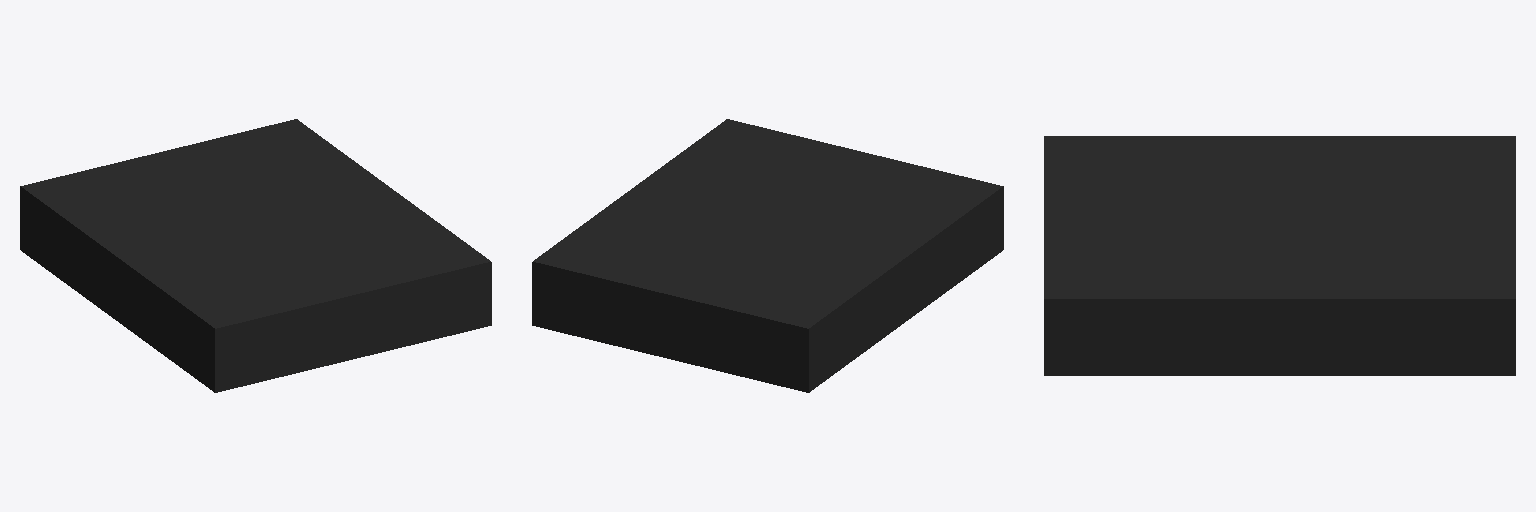
URDF robot description (granite):
<?xml version="1.0"?>
<robot name="granite">
 

  <link name="map">
    <visual>
      <material name="black"> <color rgba="0.2 0.2 0.2 1"/> </material>
      <geometry>
        <box size="1.8 2.2 0.4"/>
      </geometry>
      <origin xyz="0.85 1.05 -0.2" rpy="0 0 0"/>
    </visual>
  </link>

  
</robot>

--- Render facts (derived) ---
The picture shows the robot from 3 angles, left to right: view 1: azimuth 30°, elevation 25°; view 2: azimuth 150°, elevation 25°; view 3: azimuth 270°, elevation 25°; orthographic projection.
Robot: granite — 1 links, 0 joints (none); root link map; default pose: all joints at 0.
Links seen in each view (by area): view 1: map; view 2: map; view 3: map.
Boxes of the visible links, box(x1,y1,x2,y2) form: map: box(20, 119, 491, 392); map: box(532, 119, 1003, 392); map: box(1044, 136, 1515, 375).
Size in the robot's own frame: 1.8 by 2.2 by 0.4 metres.
Geometry: primitives only (box / cylinder / sphere), no mesh files.